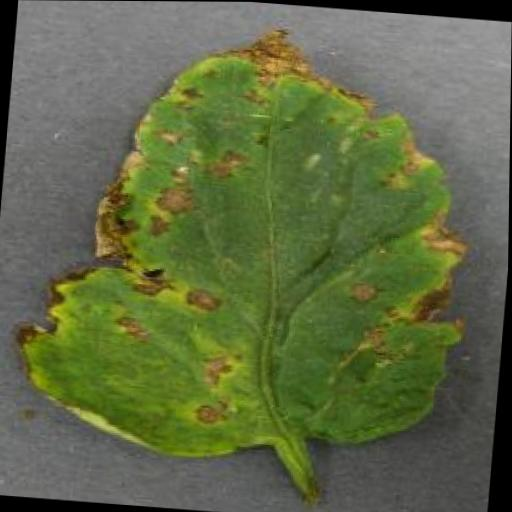Bacterial Spot: (2, 4, 489, 479)
